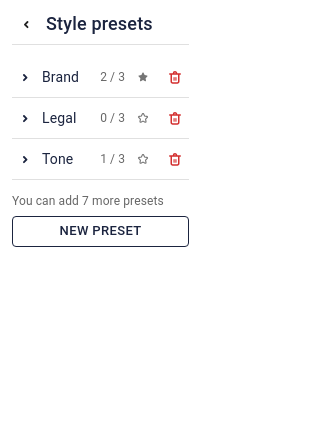
Scenario: a row, expanded (contract: one line per language the space has — every one, whether the preset covers it or not, in the order `languages` gives them, each a but › shows the second row's languages alongside the first row's
Click the button named "Expand Brand — 2 of 3 languages configured": (47, 77) [12,60,81,94]
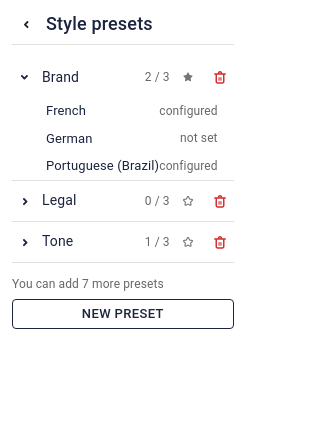
Click the button named "Expand Legal — 0 of 3 languages configured": (69, 200) [12,184,126,218]
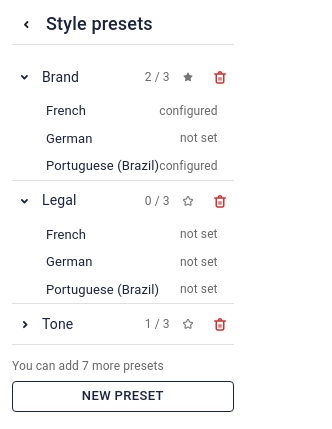
Result: the button named "Legal — French, not set" is shown at [46,226,218,242]
